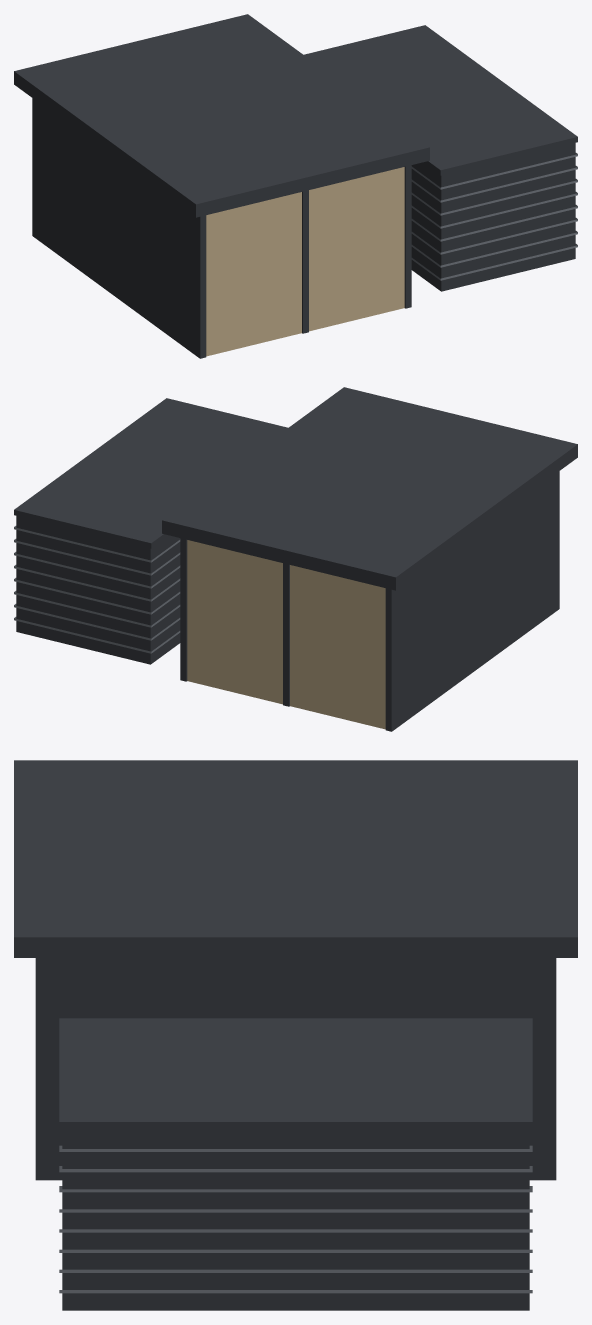
The model's file is roofprop_close.fbx.
3 views of the same model, one above another, from view 1: azimuth 30°, elevation 25°; view 2: azimuth 150°, elevation 25°; view 3: azimuth 270°, elevation 25° (orthographic). The views are drawn at different scales.
Parts seen in each view (by area): view 1: a2019/750/roofprop_close; view 2: a2019/750/roofprop_close; view 3: a2019/750/roofprop_close.
Part boxes in pixels (left/top/right/bottom): a2019/750/roofprop_close: left=14, top=14, right=577, bottom=358; a2019/750/roofprop_close: left=14, top=387, right=577, bottom=731; a2019/750/roofprop_close: left=14, top=760, right=577, bottom=1310.
Bounding box in the file's own units: 7.8 × 3.05 × 6.2.
